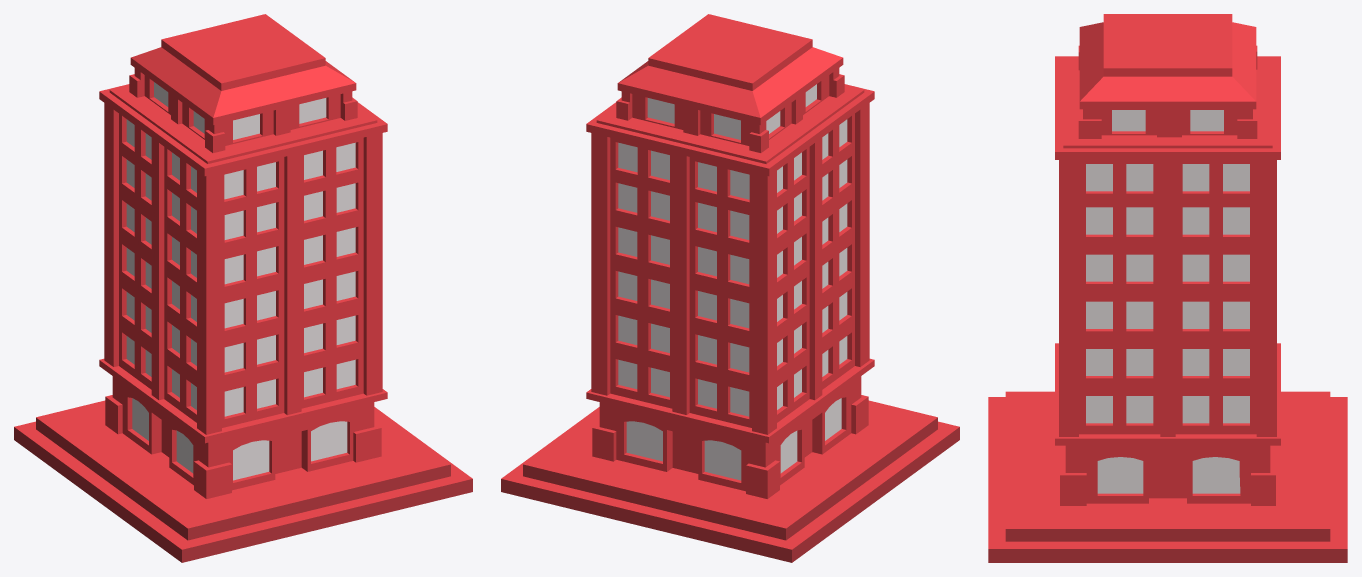
File: redapartmentlevel2 (1).fbx
3 views of the same model, side by side, from view 1: azimuth 30°, elevation 25°; view 2: azimuth 150°, elevation 25°; view 3: azimuth 270°, elevation 25° (orthographic). The views are drawn at different scales.
Parts seen in each view (by area): view 1: 2apartmantred, 2apartmantbasered, 2apartmantlight1red, 2apartmantlight6red, 2apartmantlight3red, 2apartmantlight5red, 2apartmantlight2red, 2apartmantlight4red, 2apartmantlight7red, 2apartmantlight8red; view 2: 2apartmantred, 2apartmantbasered, 2apartmantlight1red, 2apartmantlight6red, 2apartmantlight3red, 2apartmantlight5red, 2apartmantlight2red, 2apartmantlight4red, 2apartmantlight7red, 2apartmantlight8red; view 3: 2apartmantred, 2apartmantbasered, 2apartmantlight1red, 2apartmantlight6red, 2apartmantlight7red, 2apartmantlight5red, 2apartmantlight4red, 2apartmantlight2red, 2apartmantlight3red, 2apartmantlight8red.
Part boxes in pixels (<box>): 2apartmantred: <box>99,14,387,498</box>; 2apartmantbasered: <box>14,400,472,562</box>; 2apartmantlight1red: <box>132,398,347,480</box>; 2apartmantlight6red: <box>126,159,355,239</box>; 2apartmantlight3red: <box>126,292,355,372</box>; 2apartmantlight5red: <box>126,203,355,284</box>; 2apartmantlight2red: <box>126,336,355,416</box>; 2apartmantlight4red: <box>126,248,355,328</box>; 2apartmantlight7red: <box>126,119,355,199</box>; 2apartmantlight8red: <box>154,82,326,139</box>; 2apartmantred: <box>586,14,874,498</box>; 2apartmantbasered: <box>501,400,959,562</box>; 2apartmantlight1red: <box>626,398,841,480</box>; 2apartmantlight6red: <box>618,159,847,239</box>; 2apartmantlight3red: <box>618,292,847,372</box>; 2apartmantlight5red: <box>618,203,847,284</box>; 2apartmantlight2red: <box>618,336,847,416</box>; 2apartmantlight4red: <box>618,248,847,328</box>; 2apartmantlight7red: <box>618,119,847,199</box>; 2apartmantlight8red: <box>647,84,816,139</box>; 2apartmantred: <box>1055,14,1280,505</box>; 2apartmantbasered: <box>988,391,1347,562</box>; 2apartmantlight1red: <box>1097,457,1240,493</box>; 2apartmantlight6red: <box>1086,207,1249,234</box>; 2apartmantlight7red: <box>1086,164,1249,191</box>; 2apartmantlight5red: <box>1086,254,1249,281</box>; 2apartmantlight4red: <box>1086,301,1249,328</box>; 2apartmantlight2red: <box>1086,396,1249,423</box>; 2apartmantlight3red: <box>1086,349,1249,375</box>; 2apartmantlight8red: <box>1112,110,1223,131</box>.
Size of the model in its own units: 577 by 790 by 577.
